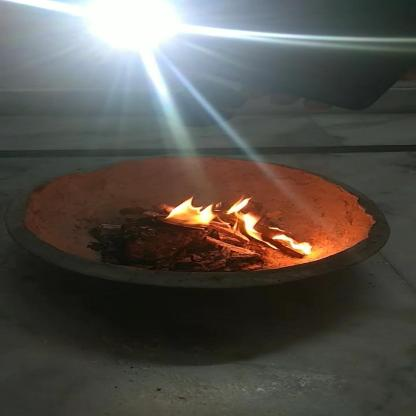fire: (168, 192, 316, 256)
